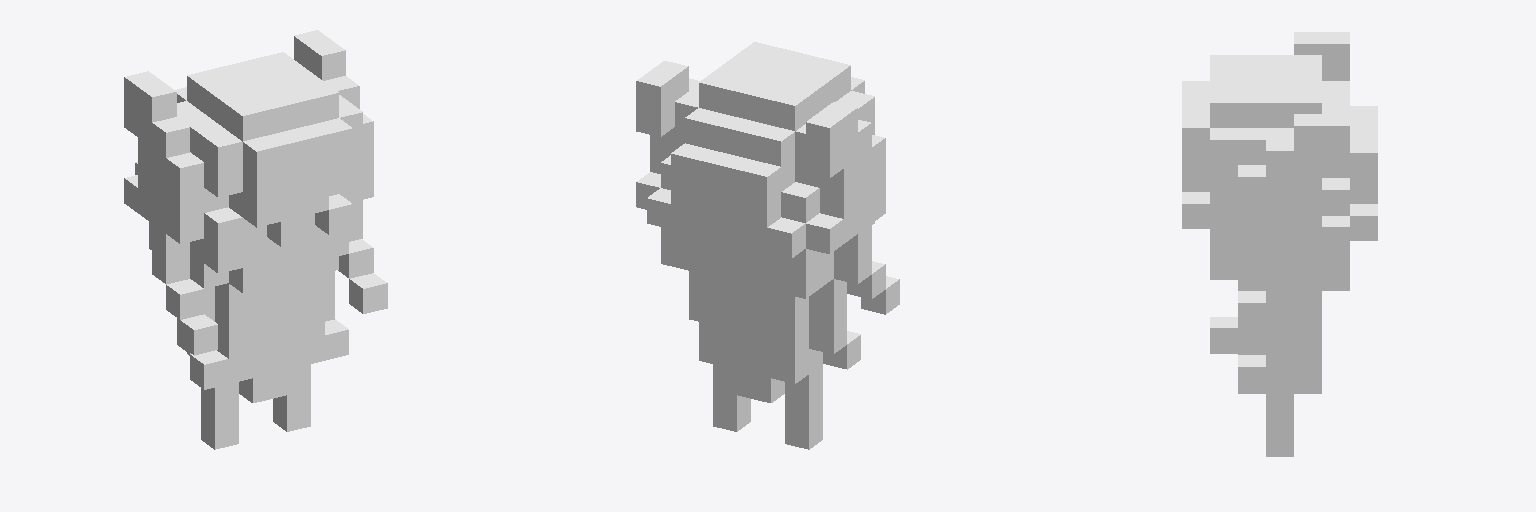
File: Valquíria.obj
The picture shows the model from 3 angles: view 1: azimuth 30°, elevation 25°; view 2: azimuth 150°, elevation 25°; view 3: azimuth 270°, elevation 25°; orthographic projection.
Parts seen in each view (by area): view 1: Valquíria; view 2: Valquíria; view 3: Valquíria.
Part boxes in pixels (x1,y1,x2,y2): Valquíria: (124,30,387,449); Valquíria: (636,42,899,449); Valquíria: (1182,32,1377,456).
Size of the model in its own units: 8 by 14 by 7.